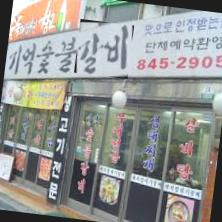galbi: (74, 19, 136, 79)
